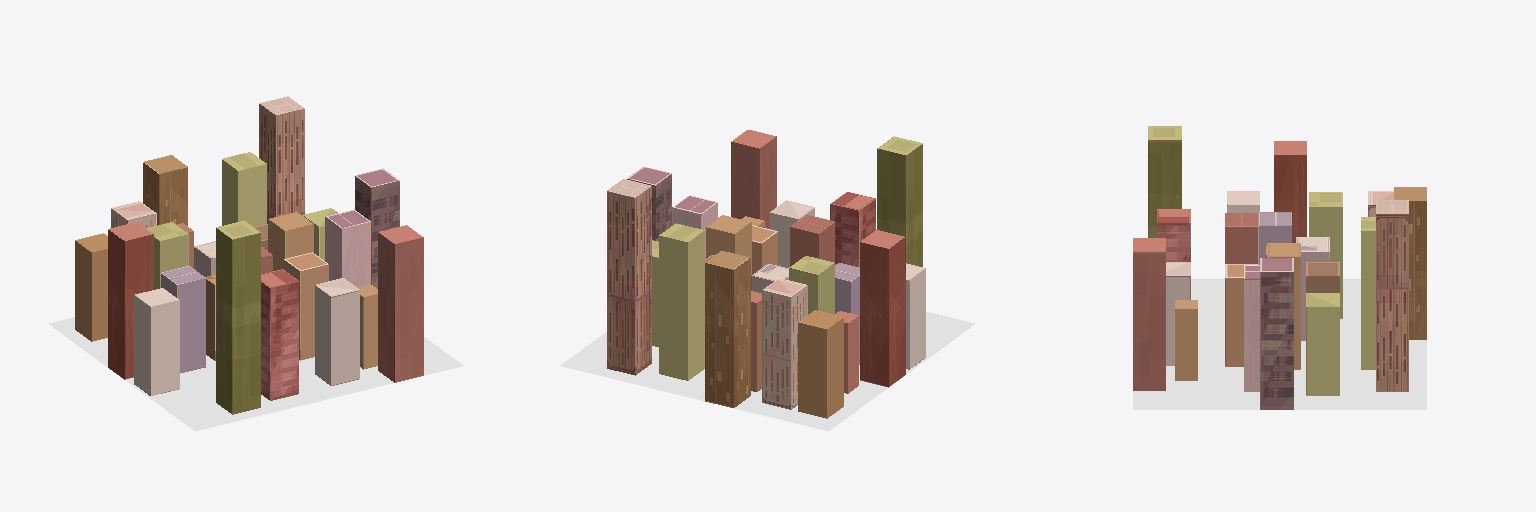
3 views of the same model, side by side, from view 1: azimuth 30°, elevation 25°; view 2: azimuth 150°, elevation 25°; view 3: azimuth 270°, elevation 25° (orthographic).
Parts seen in each view (by area): view 1: buildings; view 2: buildings; view 3: buildings.
Part boxes in pixels (x1,y1,x2,y2): buildings: (49,96,463,431); buildings: (560,130,974,431); buildings: (1133,126,1426,409).
Bounding box in the file's own units: 4 × 2.53 × 3.8.
Materials: 1 (1 with a texture image).